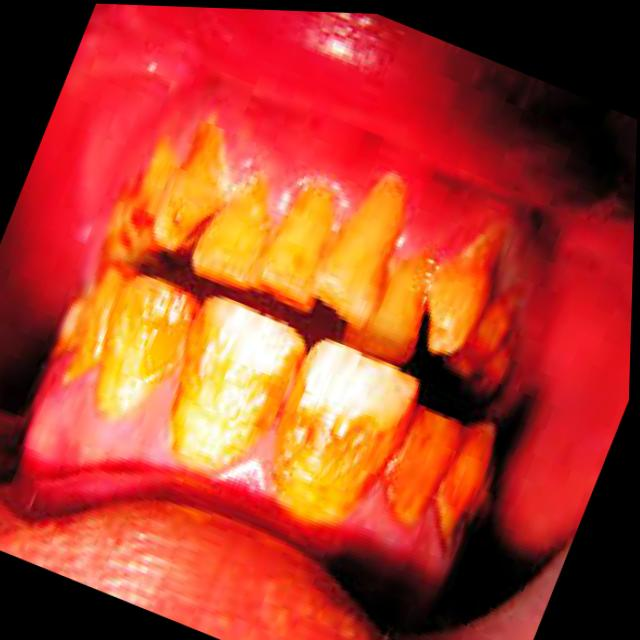tooth-discoloration: (272, 342, 415, 523), (170, 299, 303, 473), (314, 176, 404, 327), (96, 278, 193, 412), (253, 186, 334, 309), (424, 225, 500, 355), (153, 123, 224, 251), (383, 411, 459, 524), (190, 184, 270, 289), (434, 425, 493, 543), (357, 261, 422, 364), (64, 272, 124, 382)
